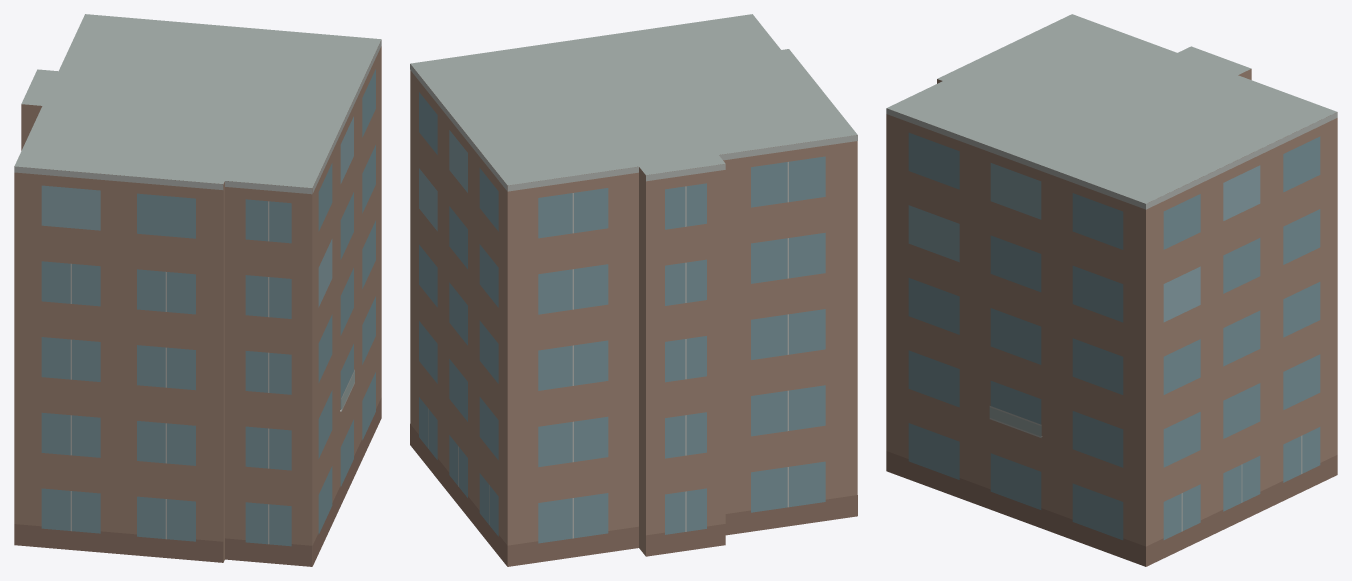
The model's file is survey-upis-32971120.glb.
The picture shows the model from 3 angles, left to right: view 1: azimuth 30°, elevation 25°; view 2: azimuth 150°, elevation 25°; view 3: azimuth 270°, elevation 25°; orthographic projection. The views are drawn at different scales.
Parts seen in each view (by area): view 1: survey-upis-32971120.tmp; view 2: survey-upis-32971120.tmp; view 3: survey-upis-32971120.tmp.
Boxes of the visible parts, x1=… form: survey-upis-32971120.tmp: x1=14, y1=14, x2=381, y2=566; survey-upis-32971120.tmp: x1=410, y1=14, x2=857, y2=566; survey-upis-32971120.tmp: x1=886, y1=14, x2=1337, y2=566.
Bounding box in the file's own units: 17.11 × 15.25 × 17.18.
